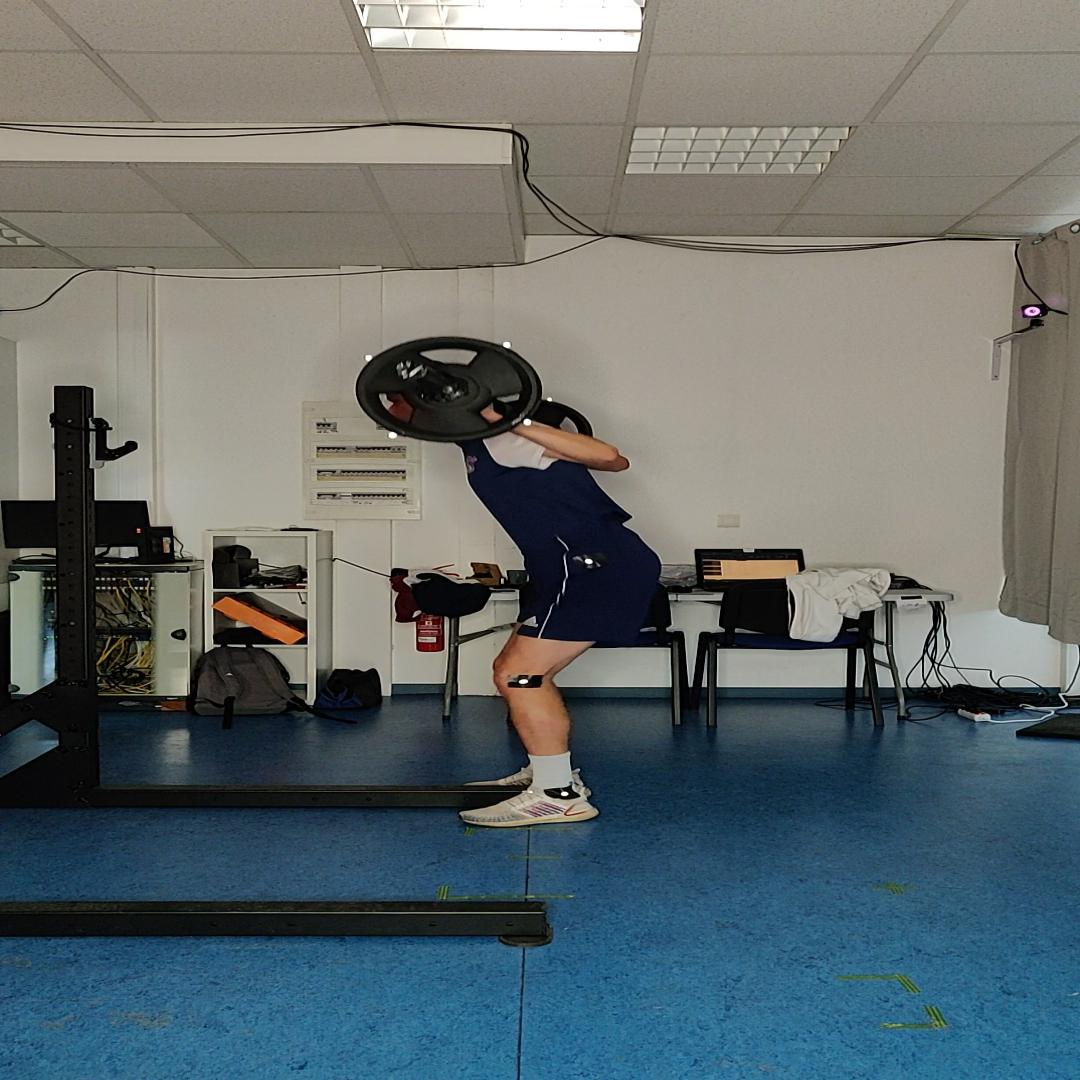Bar: (395, 360, 428, 380)
Barbell: (356, 336, 543, 443)
